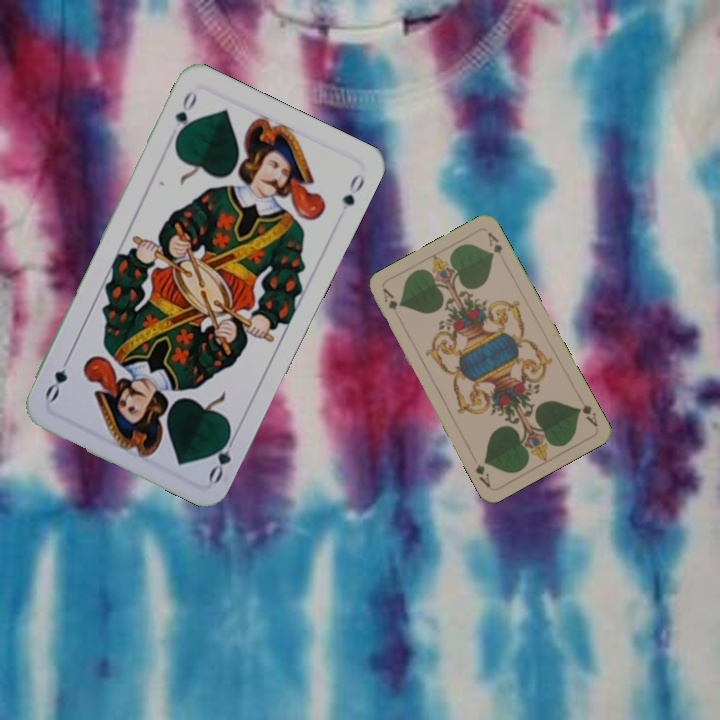GA: (379, 284, 402, 323), (573, 400, 601, 430)
GO: (204, 427, 240, 486), (171, 87, 200, 144)
